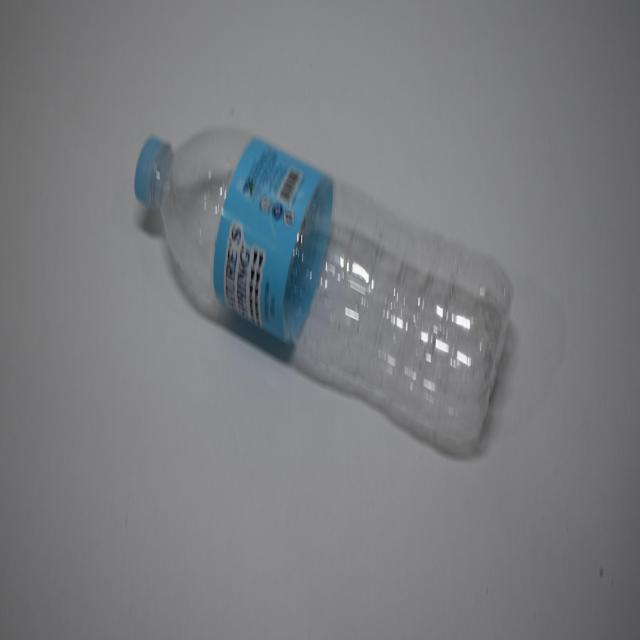empty: (134, 128, 512, 447)
